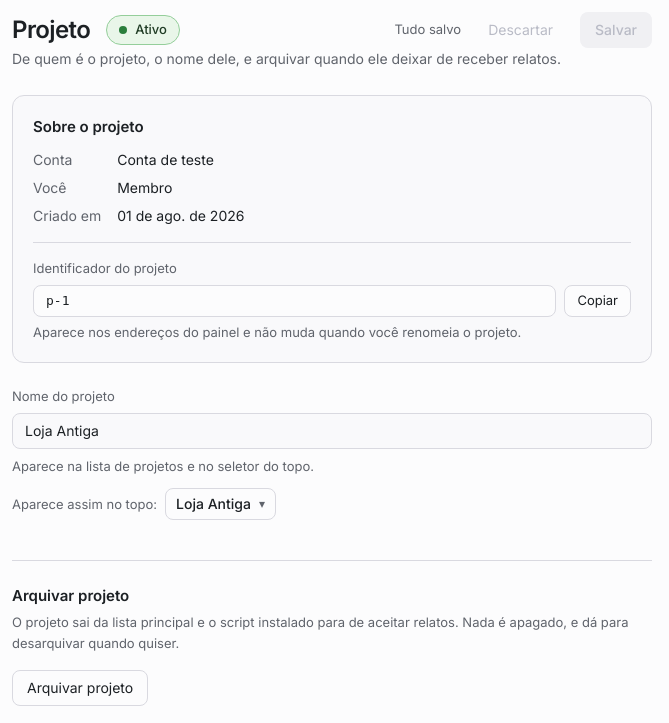
Test: ProjectSettingsScreen › "Sobre o projeto" mostra a conta, o papel, a criação, e copia o identificador
The image size is (669, 723).
Expected: the field showing "Loja Antiga" is shown, [12,413,652,449]
Expected: the text "Conta de teste" is shown, [117,151,214,168]
Click the button "Copiar".
click(598, 301)  # box [564,285,631,317]
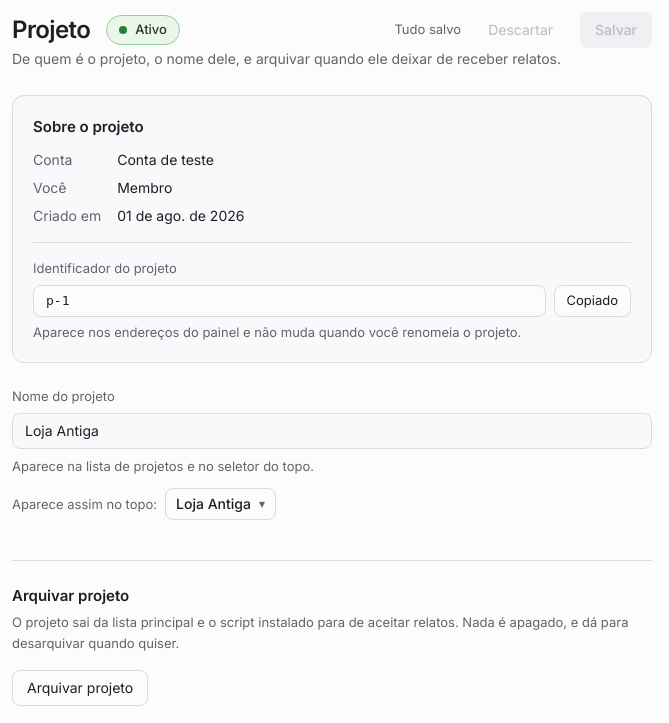
Expected: the text "Copiado" is shown, [566,291,618,310]
